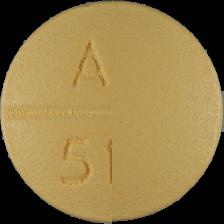63739-545: (0, 0, 224, 224)
